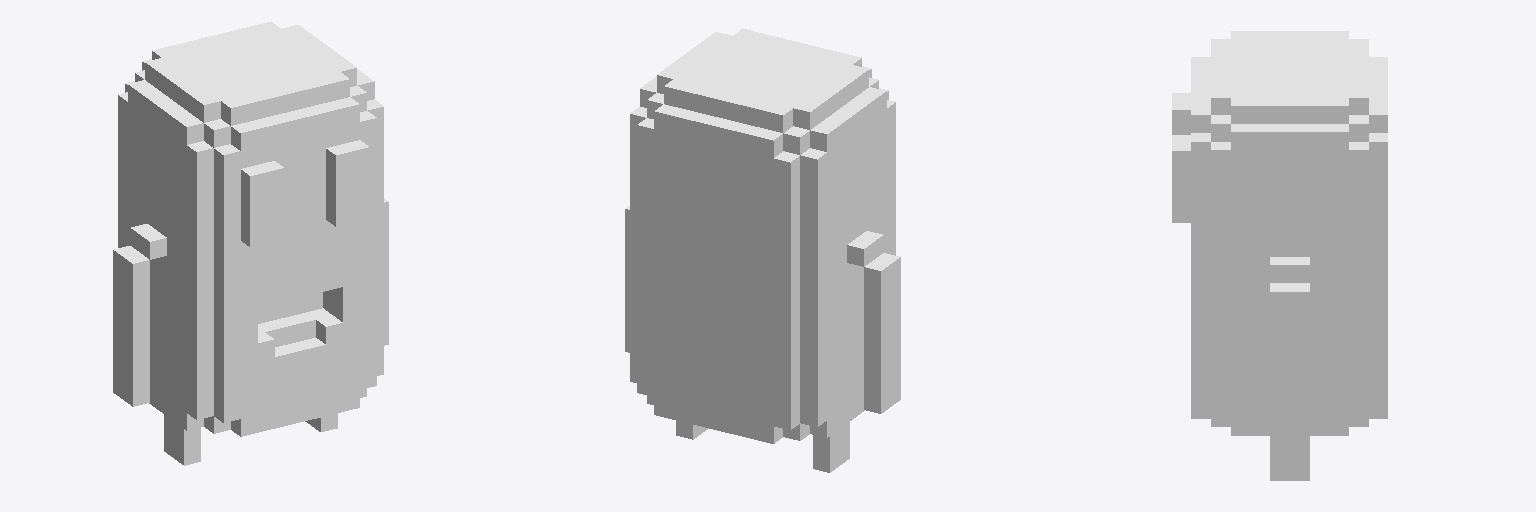
The model's file is FreakingOutGuy_Idle3.obj.
3 renders of one model, left to right at view 1: azimuth 30°, elevation 25°; view 2: azimuth 150°, elevation 25°; view 3: azimuth 270°, elevation 25°, orthographic.
Parts seen in each view (by area): view 1: FreakingOutGuy_Idle3; view 2: FreakingOutGuy_Idle3; view 3: FreakingOutGuy_Idle3.
Part boxes in pixels (bbox=[...]): FreakingOutGuy_Idle3: bbox=[113, 21, 388, 465]; FreakingOutGuy_Idle3: bbox=[625, 29, 900, 472]; FreakingOutGuy_Idle3: bbox=[1172, 31, 1387, 480].
Size of the model in its own units: 15 by 21 by 11.